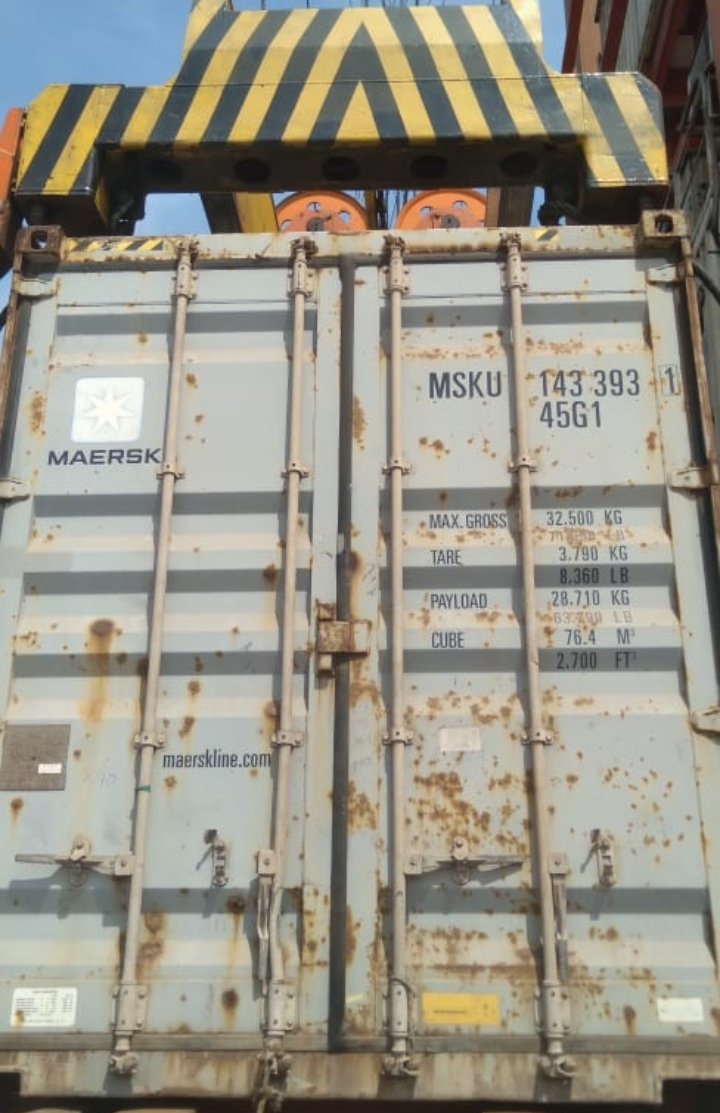rust: (333, 633, 583, 913), (463, 929, 694, 1012), (366, 323, 586, 393)
